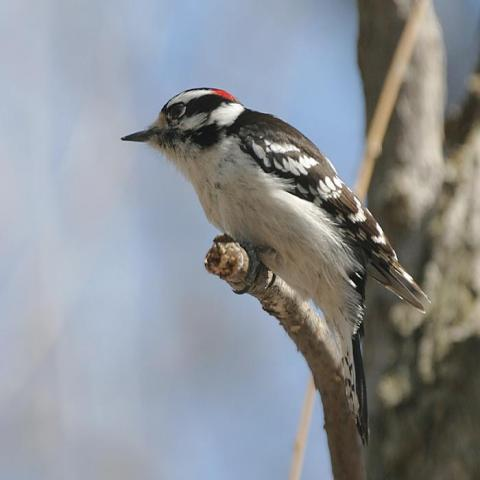bird: (119, 83, 431, 445)
